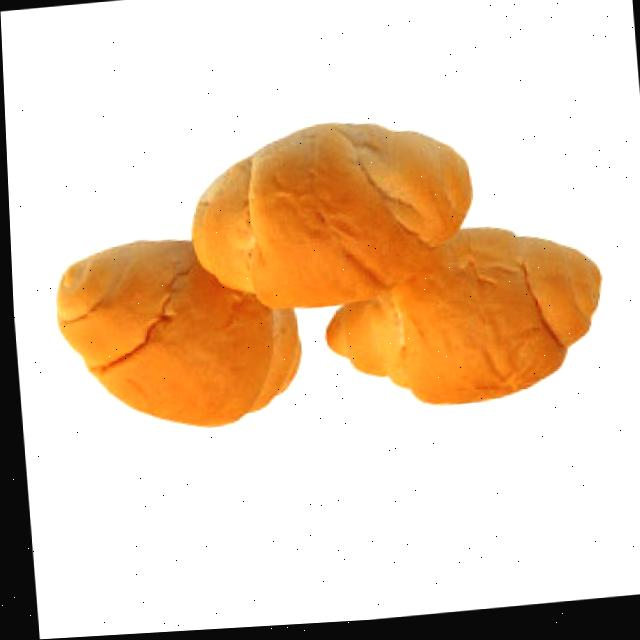面包点心: (38, 101, 619, 457)
